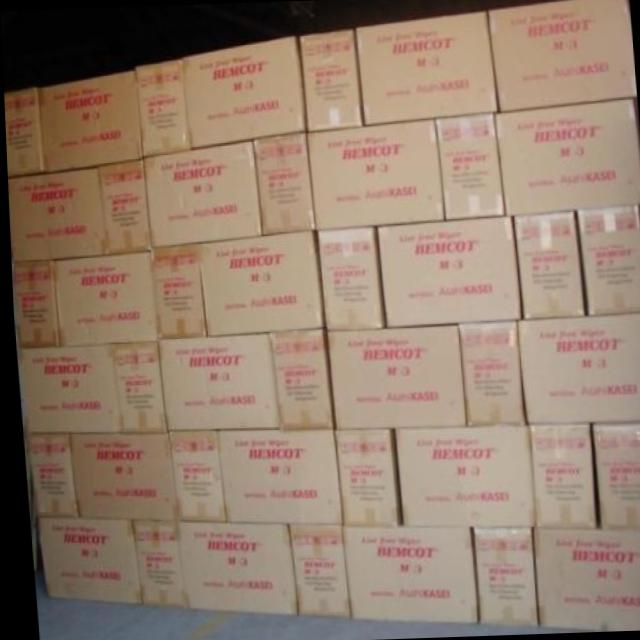box: (493, 98, 640, 215), (485, 0, 634, 114), (373, 218, 519, 327), (305, 118, 442, 232), (357, 13, 497, 123), (323, 323, 462, 429), (513, 311, 640, 424), (391, 424, 531, 526), (181, 35, 304, 148), (333, 523, 471, 621), (194, 231, 321, 335), (142, 140, 260, 251), (156, 332, 273, 433), (210, 430, 336, 523), (530, 526, 640, 628), (176, 523, 292, 616), (39, 70, 142, 171), (49, 252, 156, 347), (6, 166, 105, 266), (62, 433, 172, 521), (13, 344, 119, 433), (31, 516, 134, 602), (508, 211, 582, 321), (434, 111, 503, 220), (454, 318, 523, 427), (573, 205, 640, 314), (314, 227, 382, 333), (524, 421, 592, 527), (329, 427, 397, 524), (253, 132, 315, 237), (301, 29, 363, 132), (267, 329, 330, 429), (470, 525, 532, 626), (584, 422, 640, 530), (284, 524, 346, 617), (148, 244, 208, 338), (133, 58, 188, 155), (164, 433, 222, 523), (95, 160, 148, 255), (126, 521, 183, 607), (110, 339, 162, 432), (23, 432, 73, 516), (9, 262, 56, 348), (3, 87, 40, 176)
